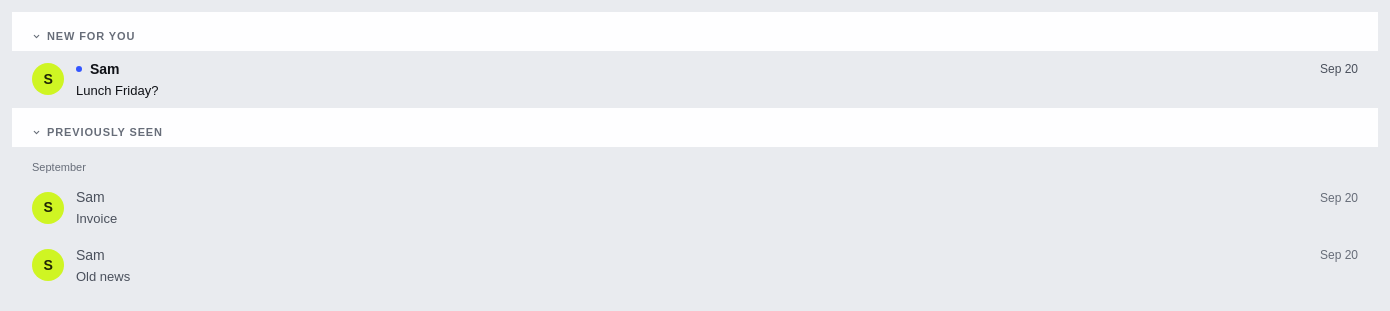
folding a box’s groups › hides a group’s rows behind its heading, with a count, and brings them back
Click the button "Previously seen".
click(105, 132)  # box [12, 108, 1378, 146]
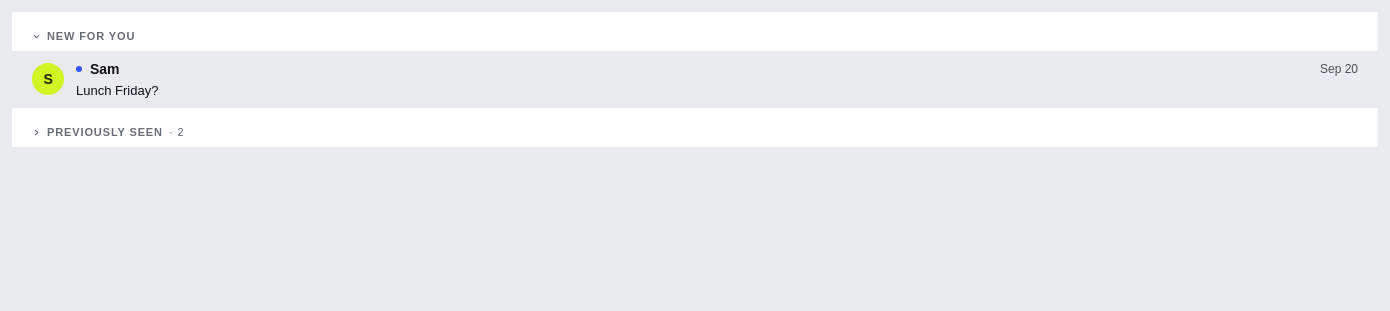
Check: the button "Previously seen · 2" is collapsed
Check: the button "Previously seen · 2" is shown
Check: the option no longer shows "Invoice"
Click the button "Previously seen · 2".
click(105, 132)  # box [12, 108, 1378, 146]
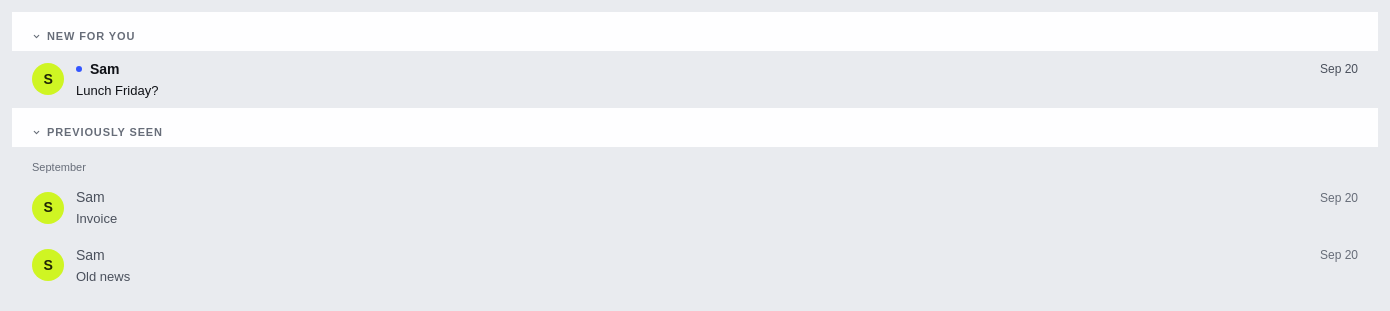
Check: the number of options is 3, box [20, 50, 1370, 108]; [20, 179, 1370, 236]; [20, 236, 1370, 294]
